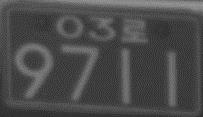0: (56, 13, 84, 39)
1: (109, 48, 144, 104), (156, 50, 189, 107)
3: (87, 15, 116, 41)
7: (58, 43, 99, 102)
9: (13, 42, 54, 100)
로: (120, 17, 149, 43)
